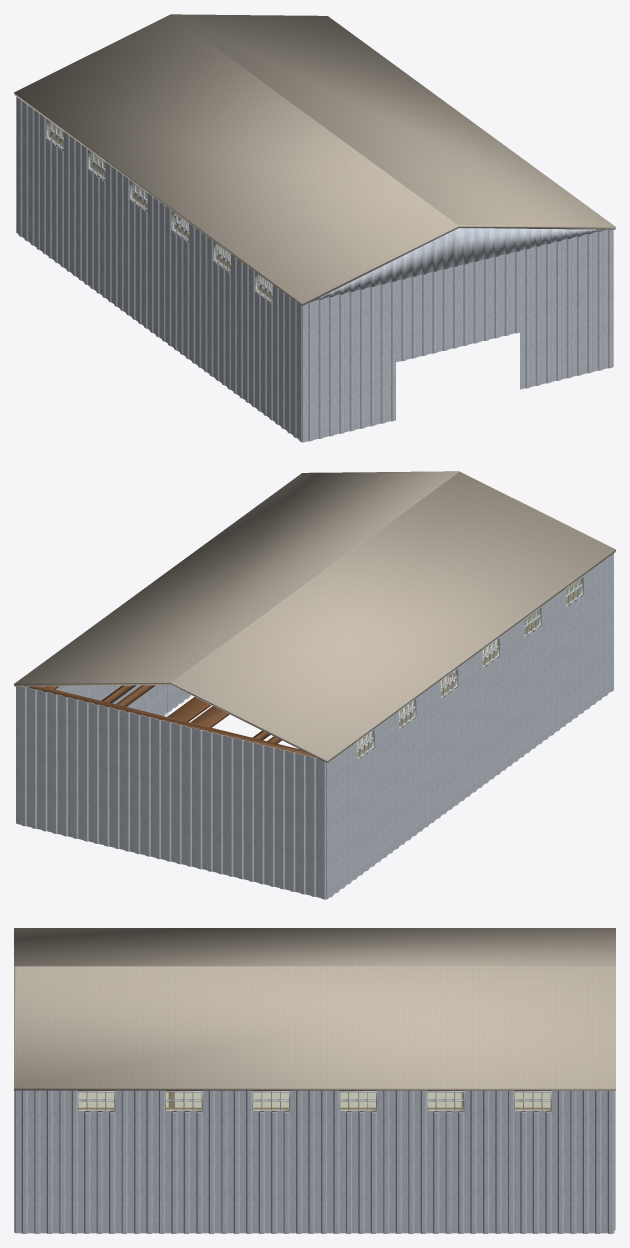
Rendered from Warehouse.glb.
The picture shows the model from 3 angles, top to bottom: view 1: azimuth 30°, elevation 25°; view 2: azimuth 150°, elevation 25°; view 3: azimuth 270°, elevation 25°; orthographic projection. The views are drawn at different scales.
Parts seen in each view (by area): view 1: Material2.009, Material2.001, Material2.004, Material2.003; view 2: Material2.009, Material2.001, Material2.010, Material2.004, Material2.003; view 3: Material2.009, Material2.001, Material2.003, Material2.004, Material2.010.
Part boxes in pixels (box(x1,y1,x2,y2)): Material2.009: box(14, 14, 615, 305); Material2.001: box(16, 97, 613, 442); Material2.004: box(46, 118, 272, 303); Material2.003: box(48, 121, 272, 300); Material2.009: box(14, 471, 615, 762); Material2.001: box(16, 553, 613, 899); Material2.010: box(24, 590, 582, 758); Material2.004: box(357, 576, 583, 759); Material2.003: box(357, 578, 581, 757); Material2.009: box(14, 928, 615, 1090); Material2.001: box(14, 1090, 615, 1233); Material2.003: box(78, 1092, 550, 1109); Material2.004: box(78, 1091, 551, 1111); Material2.010: box(78, 1090, 551, 1111).
Size of the model in its own units: 5.48 by 3 by 8.72.
5 materials, 4 textured.
